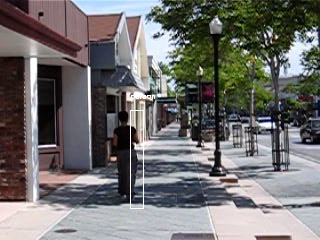person: (113, 109, 141, 203), (112, 109, 140, 203), (114, 109, 142, 203), (113, 108, 141, 202), (113, 110, 141, 204)
target_negative: (43, 56, 208, 187), (108, 83, 211, 116), (95, 25, 150, 60), (60, 192, 156, 200), (314, 92, 318, 240)
